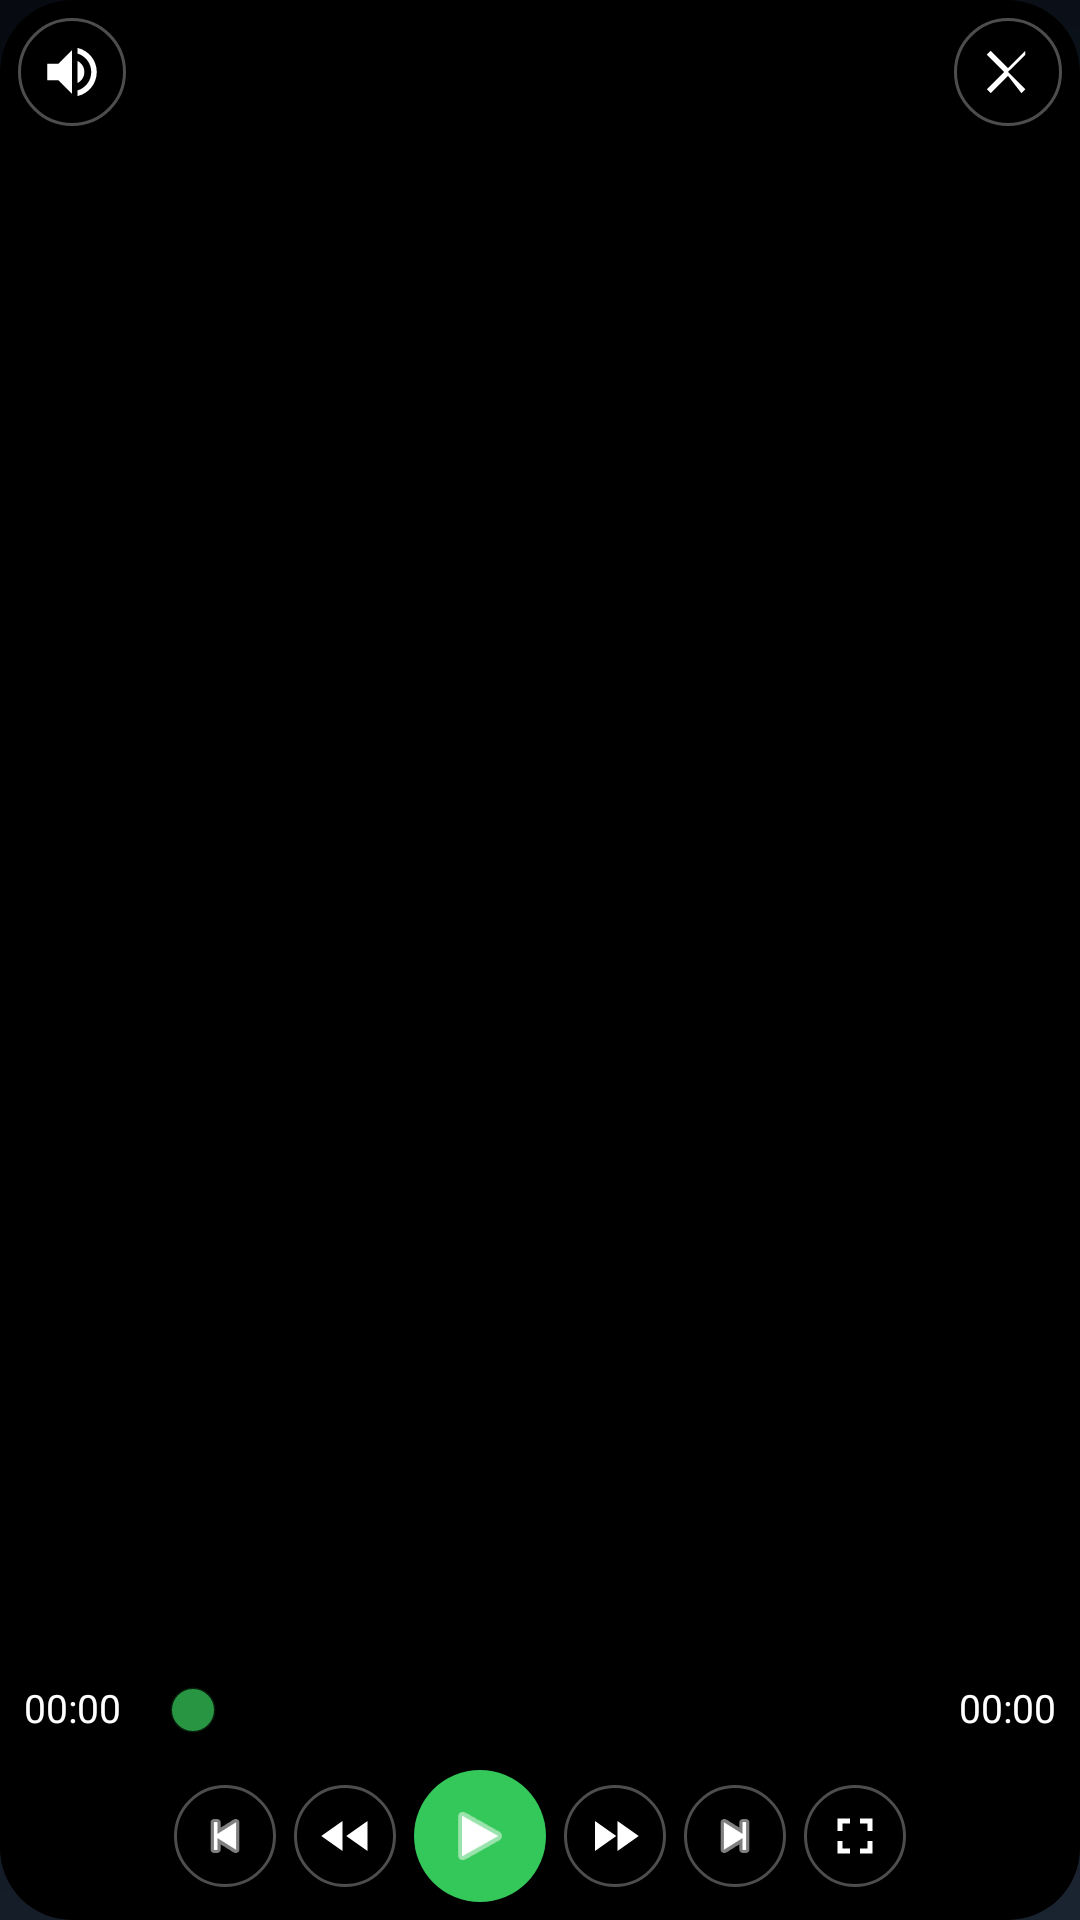

Locate icon controls on the screen. Image size 1080x1920, boxes as (x1, y1, x2, y2).
play: (414, 1770, 546, 1902)
上一个视频: (174, 1785, 276, 1887)
下一个视频: (684, 1785, 786, 1887)
全屏: (804, 1785, 906, 1887)
关闭: (954, 18, 1062, 126)
快进: (564, 1785, 666, 1887)
快退: (294, 1785, 396, 1887)
静音: (18, 18, 126, 126)
